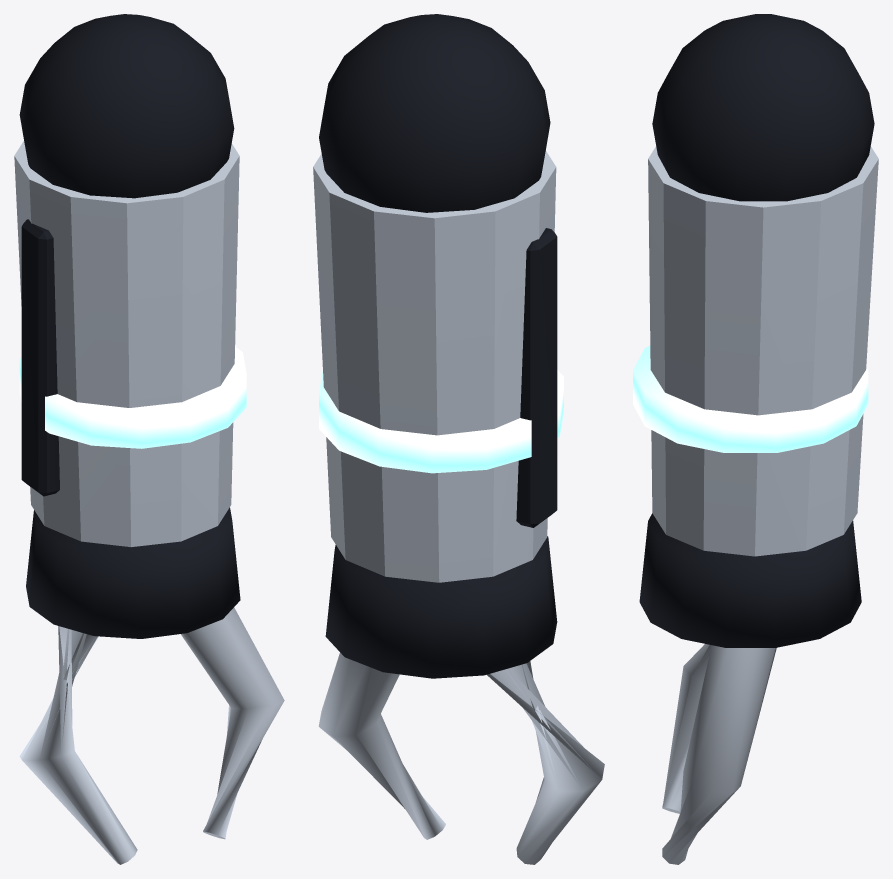
Rendered from coder_forearm_r_cyber.glb.
The picture shows the model from 3 angles, left to right: view 1: azimuth 30°, elevation 25°; view 2: azimuth 150°, elevation 25°; view 3: azimuth 270°, elevation 25°; orthographic projection. The views are drawn at different scales.
Visible parts, largest first — view 1: CoderPart; view 2: CoderPart; view 3: CoderPart.
Boxes of the visible parts, <box> form: CoderPart: <box>14,14,284,864</box>; CoderPart: <box>313,14,604,864</box>; CoderPart: <box>633,14,878,864</box>.
Size of the model in its own units: 0.144 by 0.4214 by 0.115.
